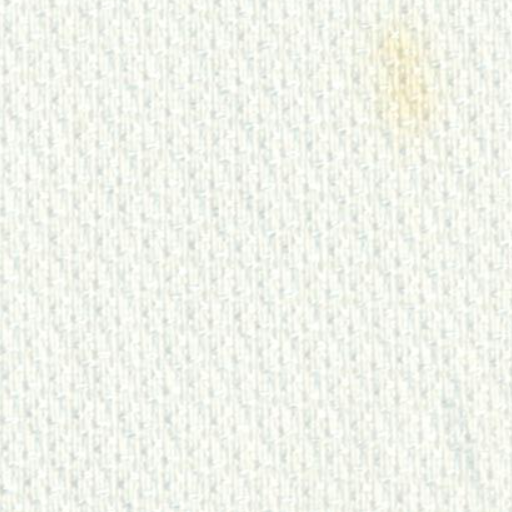WuZi: (352, 15, 465, 159)
